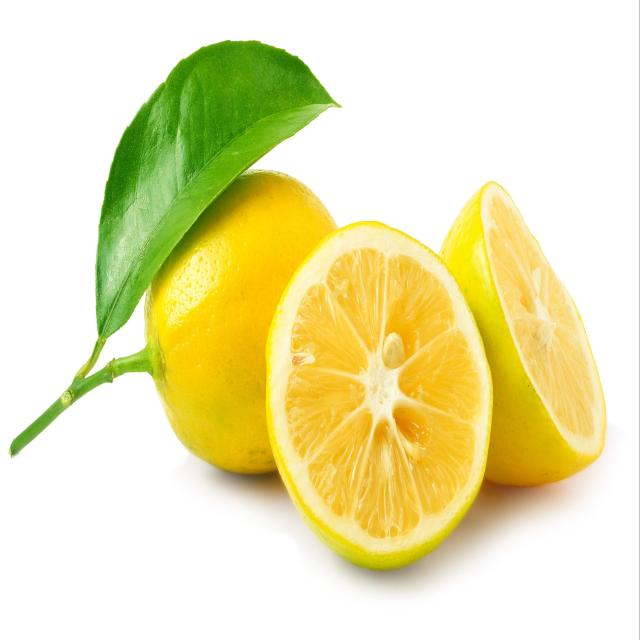lemon: (256, 210, 499, 580)
